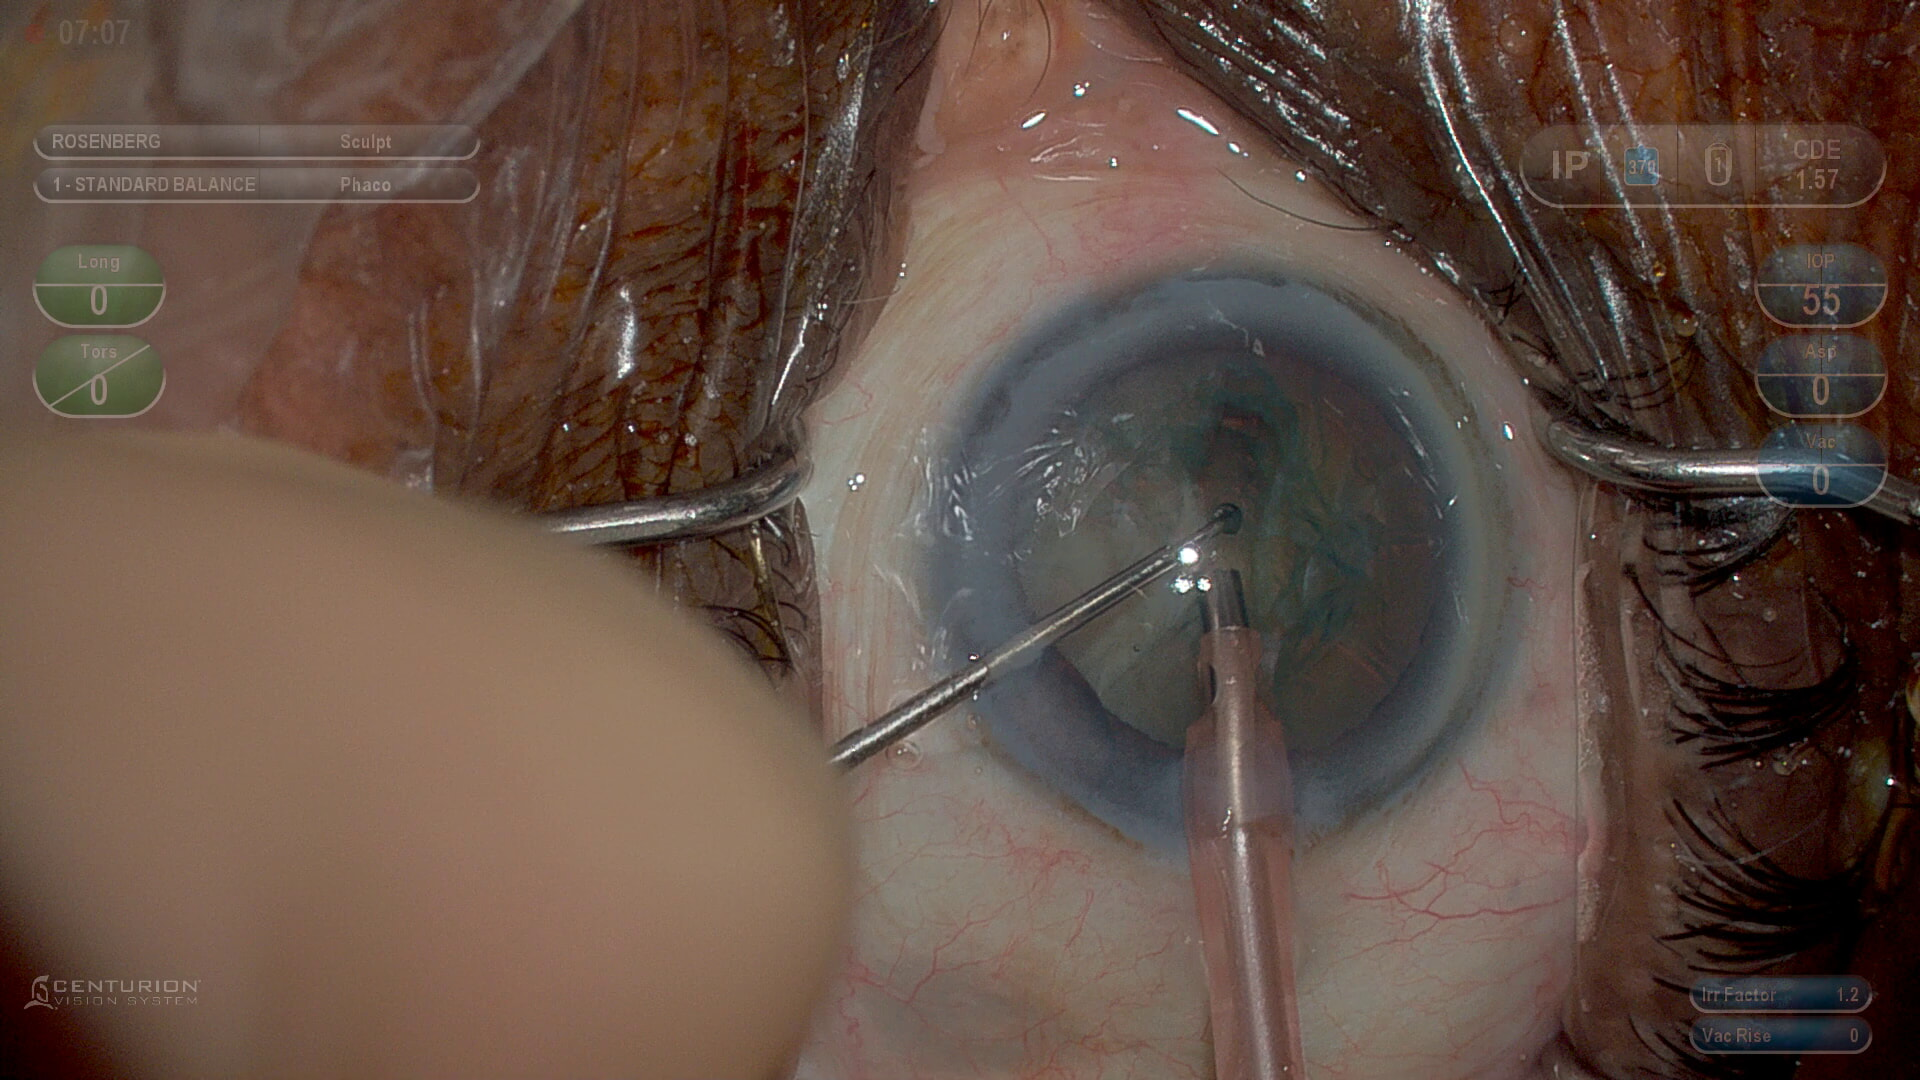pupil: (955, 275, 1498, 836), (1022, 343, 1450, 756)
